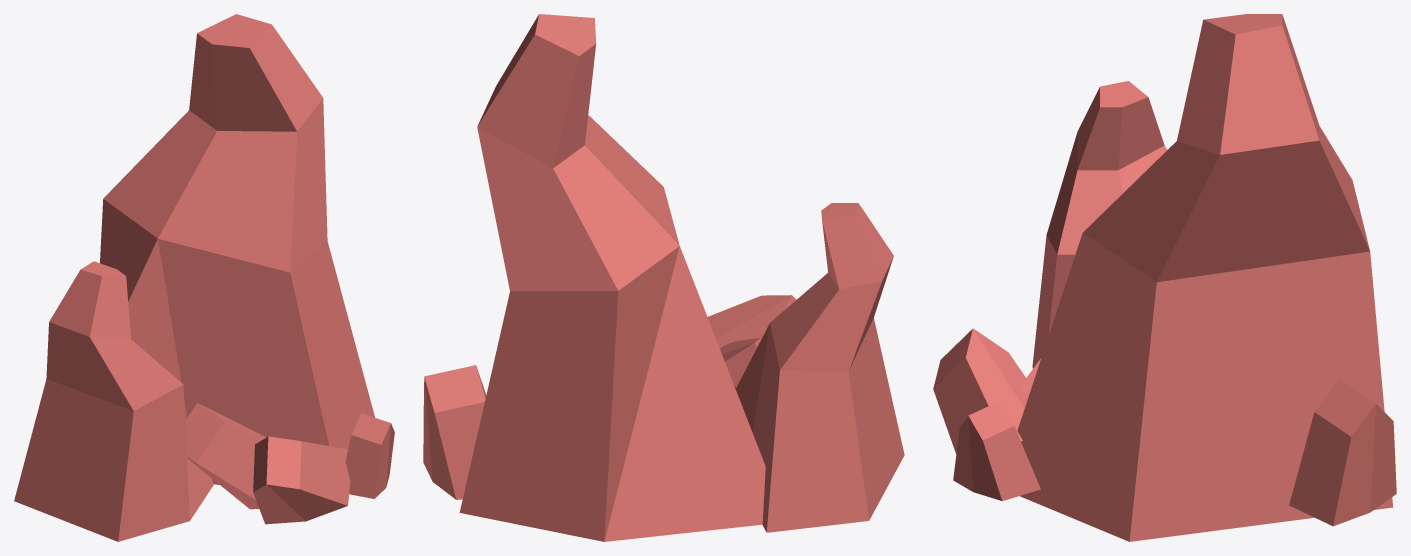
Rendered from RockType3 01.fbx.
The picture shows the model from 3 angles, left to right: view 1: azimuth 30°, elevation 25°; view 2: azimuth 150°, elevation 25°; view 3: azimuth 270°, elevation 25°; orthographic projection. The views are drawn at different scales.
Visible parts, largest first — view 1: Rock Type3 01 mesh; view 2: Rock Type3 01 mesh; view 3: Rock Type3 01 mesh.
Part boxes in pixels (x1,y1,x2,y2): Rock Type3 01 mesh: (14,14,394,541); Rock Type3 01 mesh: (423,14,904,541); Rock Type3 01 mesh: (933,14,1396,541).
Bounding box in the file's own units: 181 × 210 × 180.
